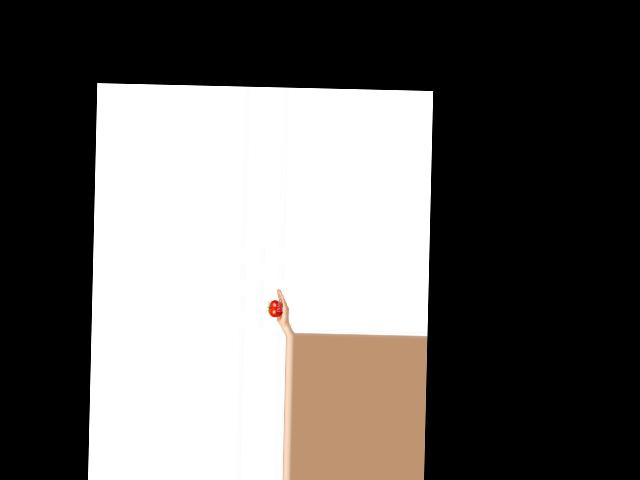tomato: (268, 300, 283, 317)
